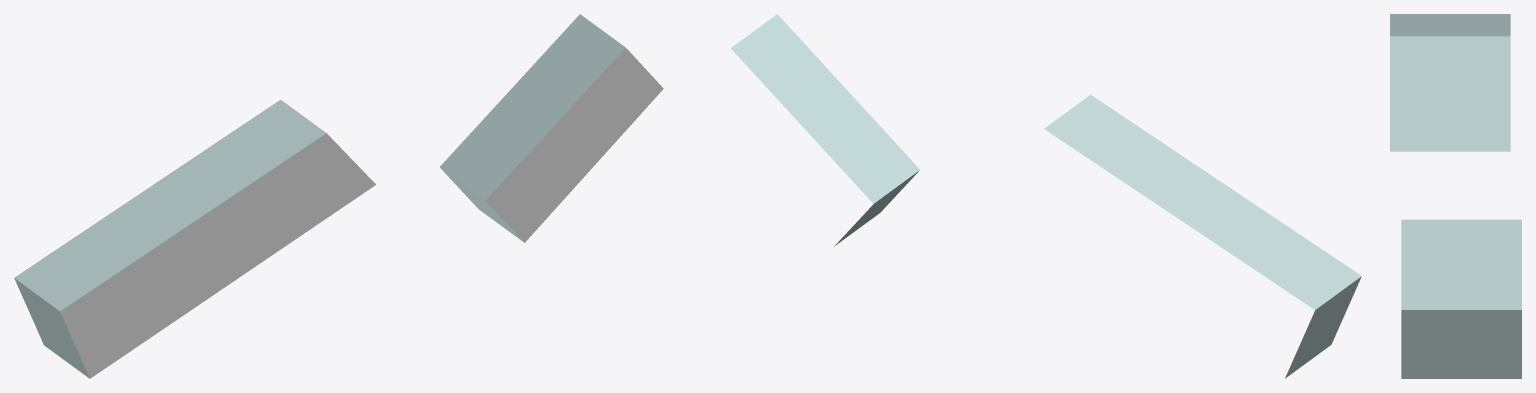
3 views of the same model, side by side, from view 1: azimuth 30°, elevation 25°; view 2: azimuth 150°, elevation 25°; view 3: azimuth 270°, elevation 25° (orthographic). The views are drawn at different scales.
Parts seen in each view (by area): view 1: 0_1_2_3_2_2_2_2_3; view 2: 0_1_2_3_2_2_2_2_3; view 3: 0_1_2_3_2_2_2_2_3.
Boxes of the visible parts, x1=… form: 0_1_2_3_2_2_2_2_3: x1=14, y1=14, x2=663, y2=378; 0_1_2_3_2_2_2_2_3: x1=731, y1=14, x2=1361, y2=378; 0_1_2_3_2_2_2_2_3: x1=1390, y1=14, x2=1521, y2=378.
Size of the model in its own units: 22.92 by 7.07 by 3.28.
